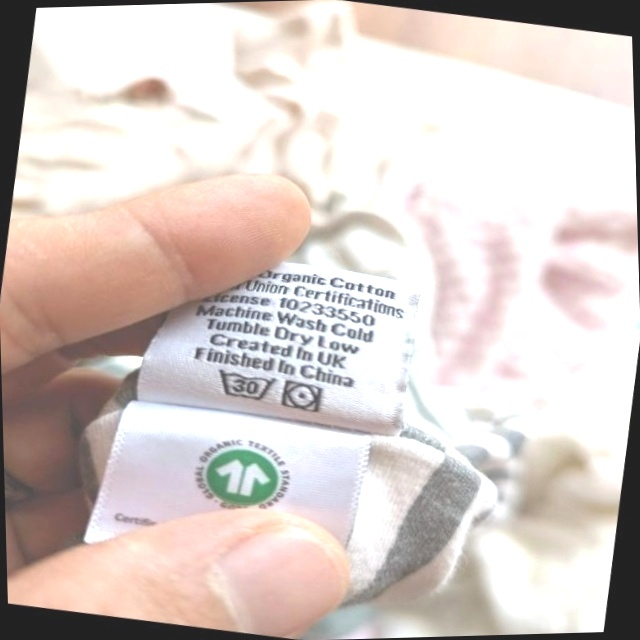30C: (210, 362, 280, 408)
tumble_dry_low: (277, 376, 327, 418)
